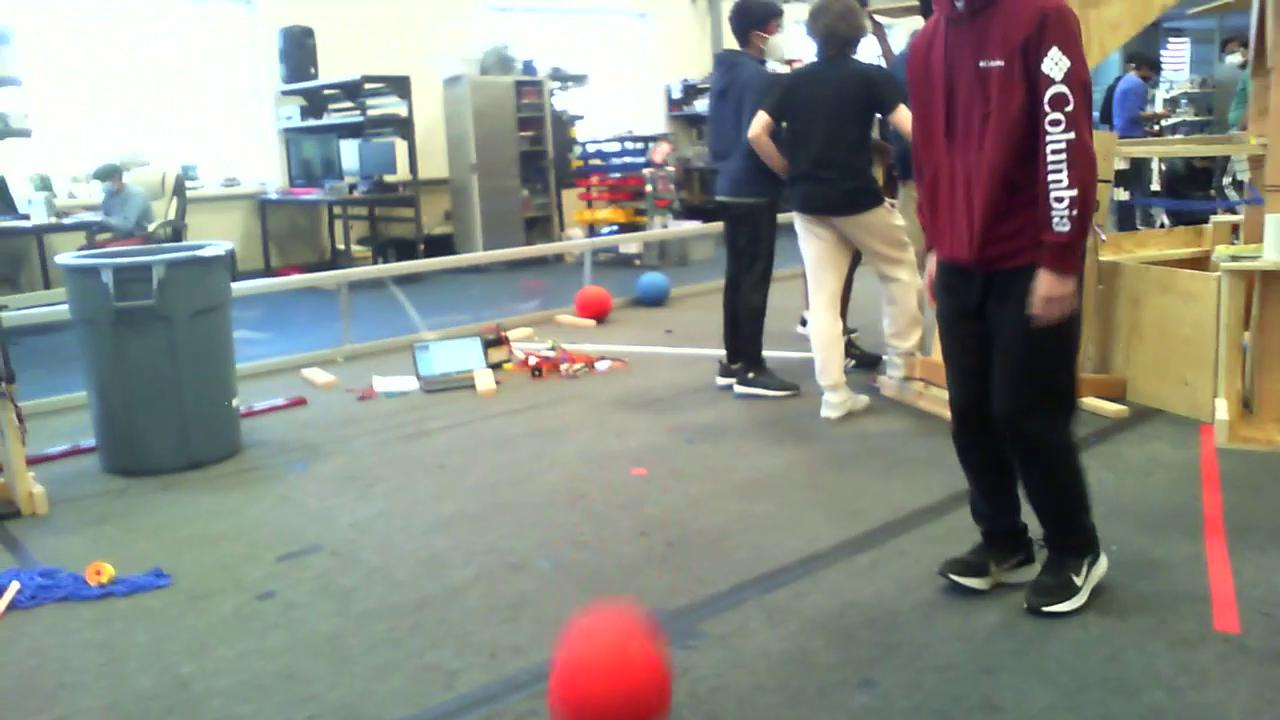Red_Ball: (532, 584, 696, 720), (571, 283, 613, 326)
